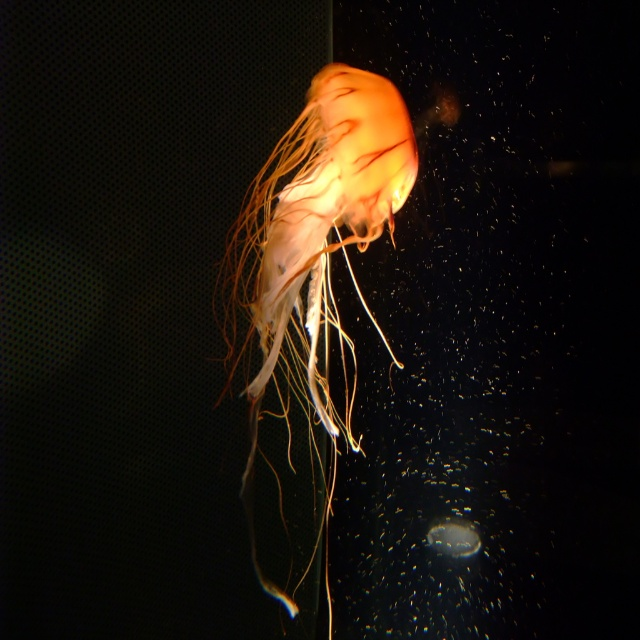Jellyfish: (204, 25, 448, 602)
